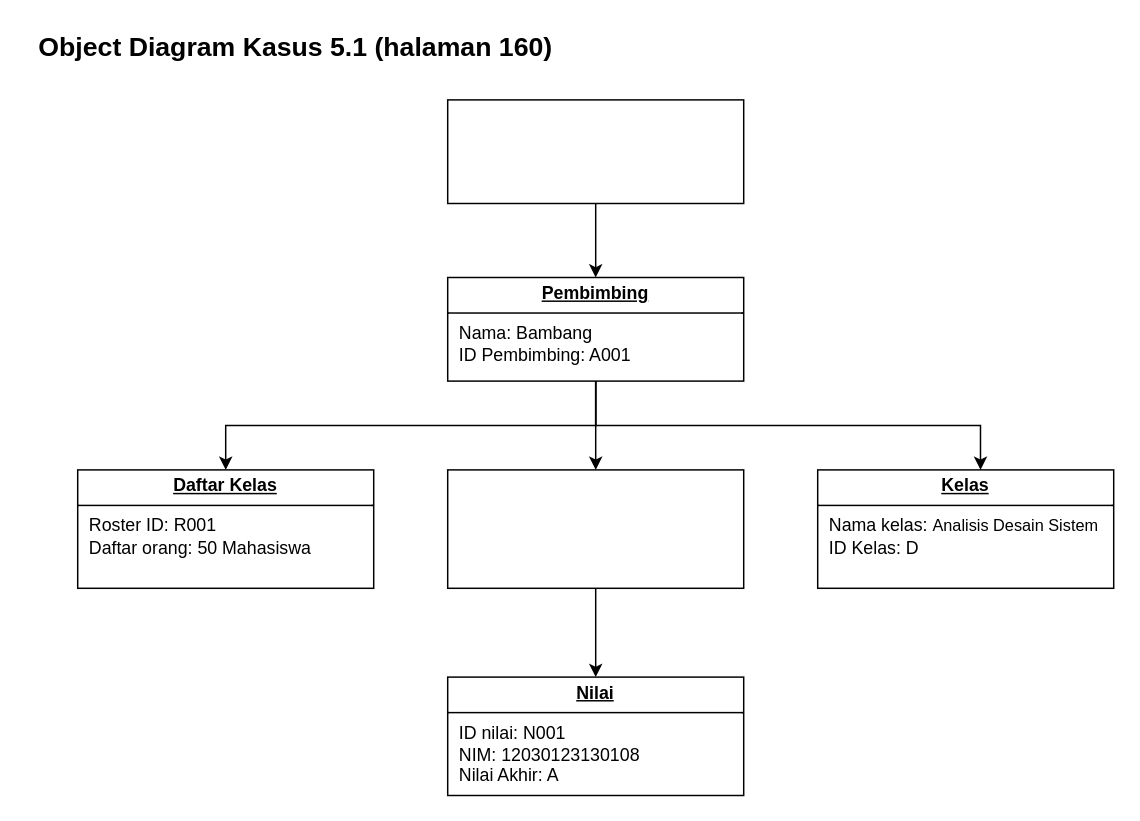
Some shapes in this 1140 by 821 pixel diagram are drawn without their labels. The centre of each missing label's shape, as x and y in pixels:
"Dosen Nama: Dr. Totok Dewayanto, SE, MSi, Ak, CA, CertDA ID Dosen: D001" goes at [595,528].
"Mahasiswa Nama: Atika Silvia NIM: 12030123130108" goes at [595,151].
